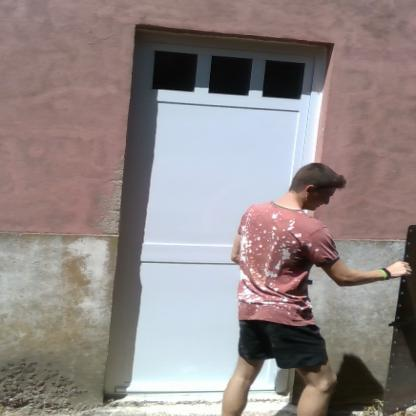door: (116, 32, 288, 388)
